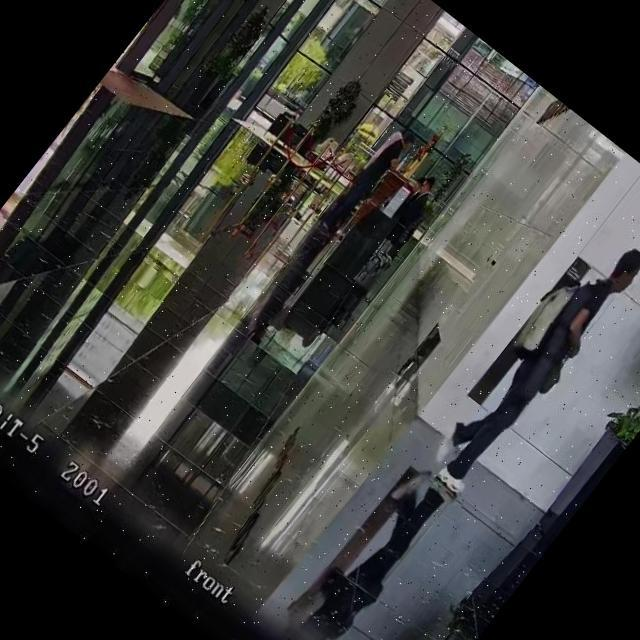person: (418, 227, 640, 502), (312, 121, 420, 247), (386, 172, 442, 236)
